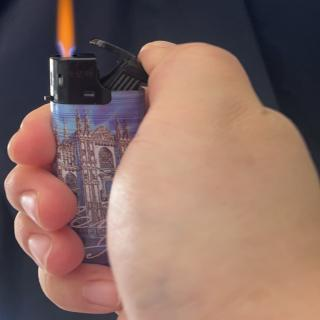fire: (51, 0, 78, 51)
